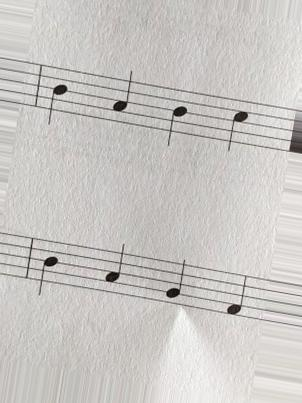A: (100, 242, 129, 307), (110, 68, 138, 132)
B: (160, 86, 191, 147), (41, 64, 71, 126), (32, 239, 63, 297)
F: (223, 272, 249, 323)
G: (161, 257, 191, 317)
HC: (221, 97, 252, 156)
